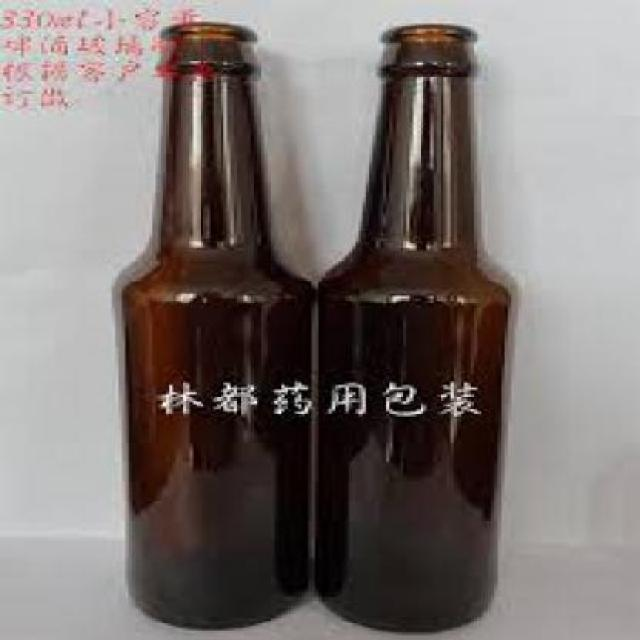kaca: (110, 20, 312, 628), (312, 24, 508, 638)
